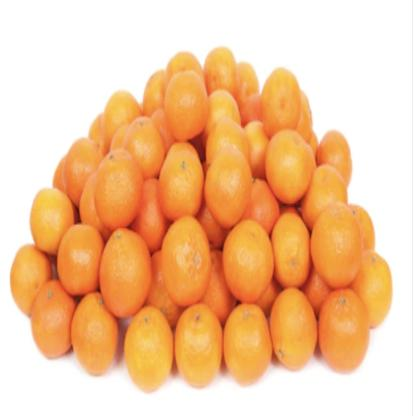fresh: (10, 44, 390, 395)
